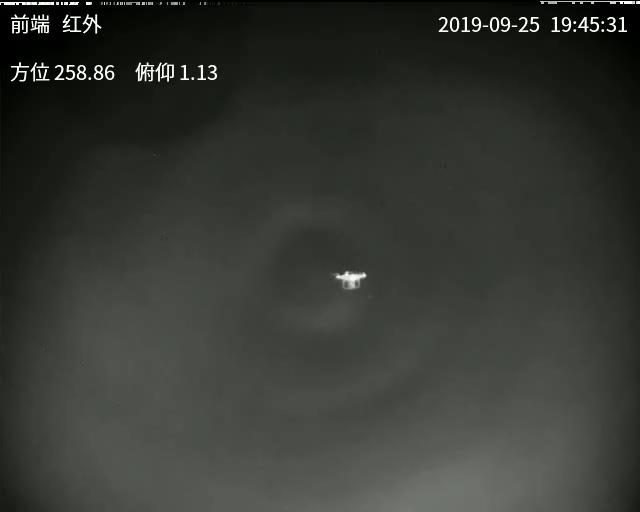uav: (325, 266, 371, 290)
